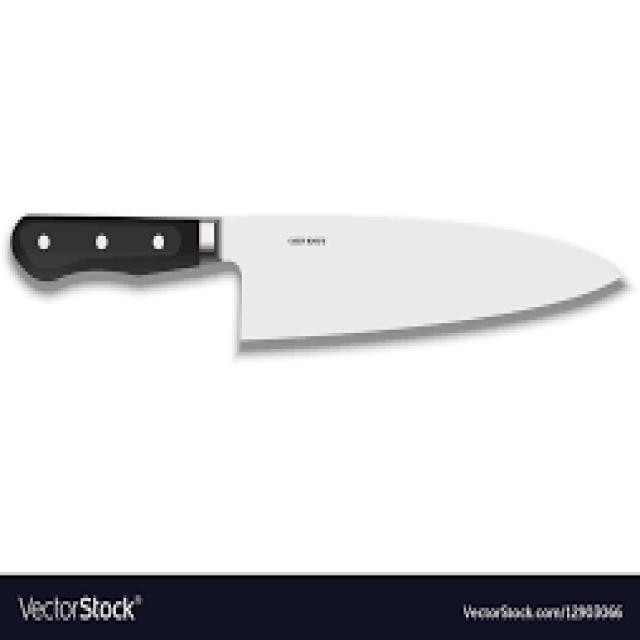Knife: (10, 210, 627, 346)
